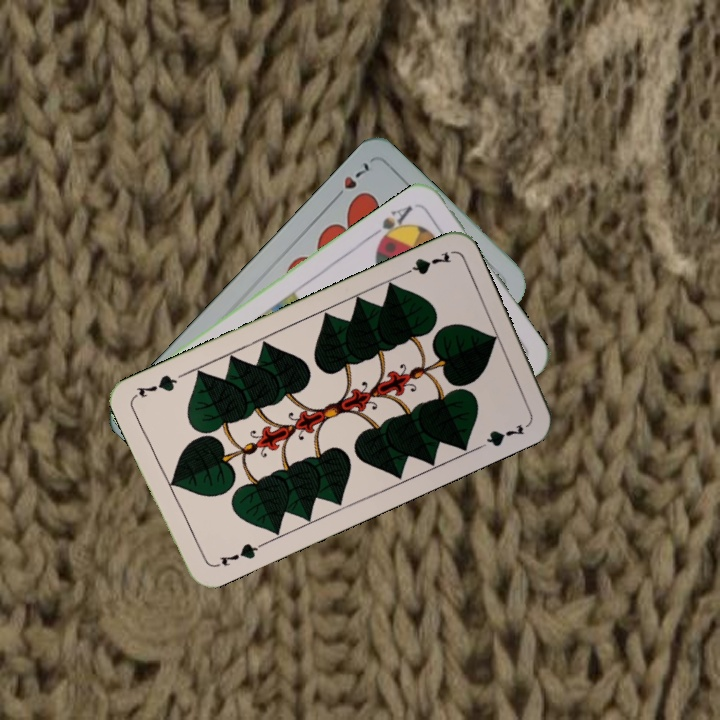G7: (396, 248, 454, 280), (210, 539, 265, 570)
H7: (328, 158, 373, 204)
SA: (368, 201, 416, 247)
